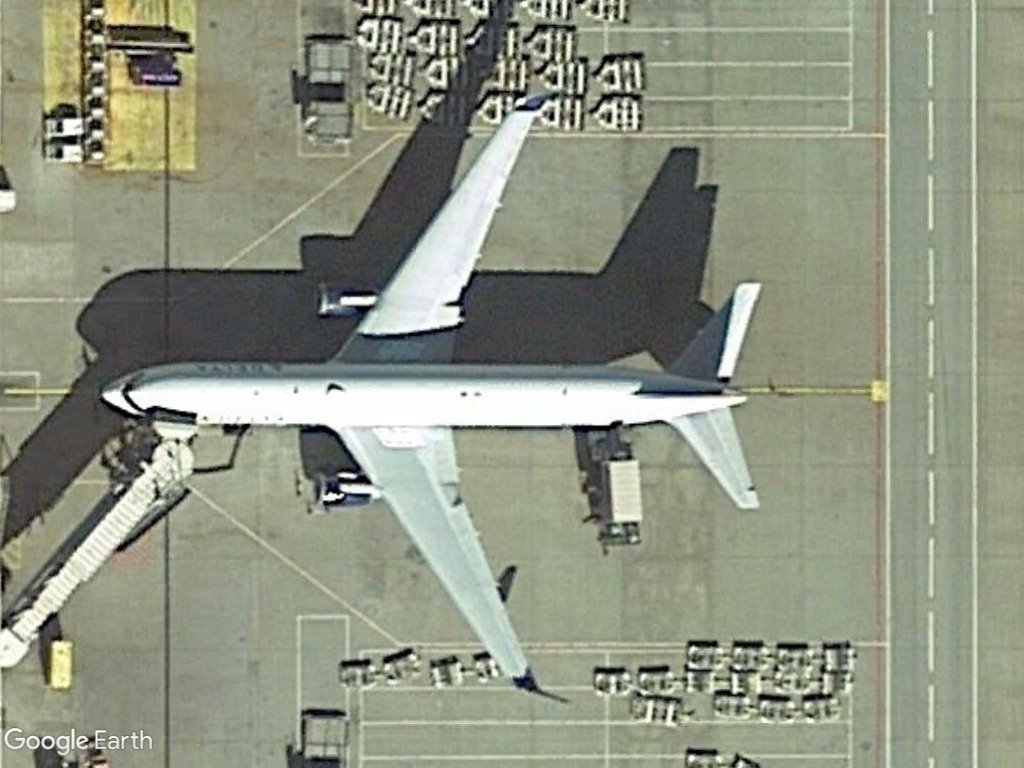airliner: (88, 86, 770, 700)
